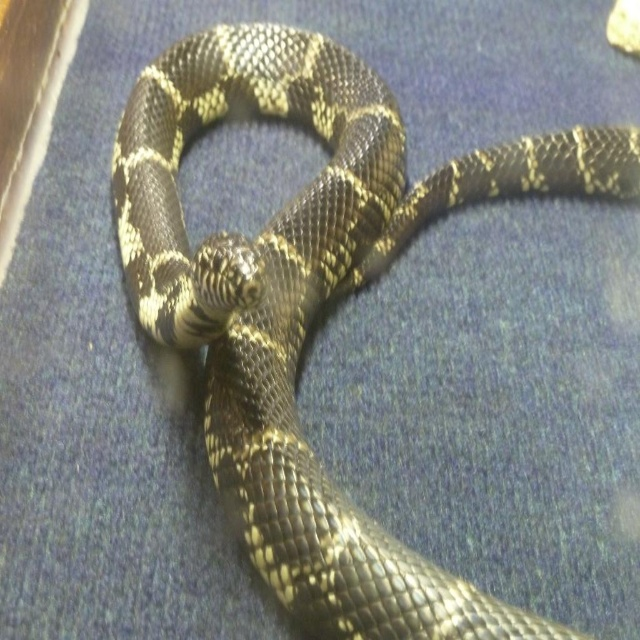Snake: (110, 23, 640, 639)
